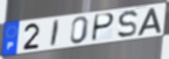0: (70, 15, 90, 45)
2: (22, 23, 41, 52)
A: (137, 7, 163, 37)
I: (49, 19, 61, 49)
P: (90, 13, 116, 43)
S: (116, 9, 139, 39)
